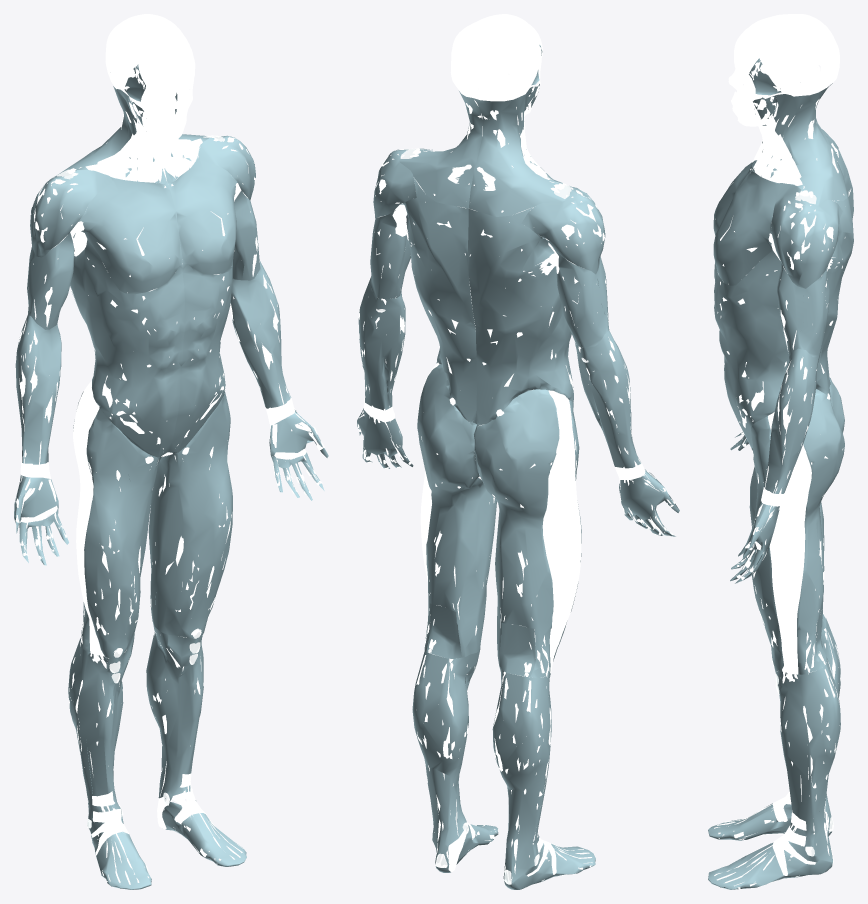
File: articular.glb
3 views of the same model, side by side, from view 1: azimuth 30°, elevation 25°; view 2: azimuth 150°, elevation 25°; view 3: azimuth 270°, elevation 25° (orthographic). The views are drawn at different scales.
Parts seen in each view (by area): view 1: Investing abdominal fascia.r, Fascia lata.l, Fascia lata.r, Crural fascia.l, Crural fascia.r, Pectoral fascia.r, Investing abdominal fascia.l, Pectoral fascia.l, Antebrachial fascia.r, Antebrachial fascia.l, Deltoid fascia.r, Iliotibial tract.r (+14 smaller); view 2: Investing abdominal fascia.r, Fascia lata.r, Fascia lata.l, Crural fascia.r, Investing abdominal fascia.l, Crural fascia.l, Superficial investing cervical fascia.r, Iliotibial tract.r, Antebrachial fascia.r, Antebrachial fascia.l, Deltoid fascia.r, Superficial investing cervical fascia.l (+11 smaller); view 3: Investing abdominal fascia.l, Crural fascia.l, Fascia lata.l, Iliotibial tract.l, Deltoid fascia.l, Pectoral fascia.l, Superficial investing cervical fascia.l, Antebrachial fascia.l, Brachial fascia.l, Epicranial aponeurosis.l, Crural fascia.r, Temporoparietalis muscle.l (+16 smaller).
Boxes of the visible parts, box(x1,y1,x2,y2) form: Investing abdominal fascia.r: box(70, 239, 184, 457); Fascia lata.l: box(148, 391, 232, 638); Fascia lata.r: box(73, 391, 162, 658); Crural fascia.l: box(146, 622, 246, 866); Crural fascia.r: box(68, 639, 151, 889); Pectoral fascia.r: box(78, 179, 182, 294); Investing abdominal fascia.l: box(168, 262, 232, 452); Pectoral fascia.l: box(167, 158, 237, 274); Antebrachial fascia.r: box(15, 315, 61, 464); Antebrachial fascia.l: box(230, 261, 291, 408); Deltoid fascia.r: box(30, 170, 113, 257); Iliotibial tract.r: box(73, 381, 106, 668); Investing abdominal fascia.r: box(467, 206, 573, 424); Fascia lata.r: box(474, 389, 581, 677); Fascia lata.l: box(417, 364, 496, 657); Crural fascia.r: box(492, 666, 595, 889); Investing abdominal fascia.l: box(401, 177, 476, 424); Crural fascia.l: box(412, 650, 498, 872); Superficial investing cervical fascia.r: box(468, 86, 570, 216); Iliotibial tract.r: box(542, 390, 581, 678); Antebrachial fascia.r: box(575, 330, 640, 468); Antebrachial fascia.l: box(358, 276, 405, 410); Deltoid fascia.r: box(521, 173, 605, 274); Superficial investing cervical fascia.l: box(399, 91, 482, 208); Investing abdominal fascia.l: box(714, 195, 853, 447); Crural fascia.l: box(708, 656, 840, 889); Fascia lata.l: box(751, 389, 844, 674); Iliotibial tract.l: box(768, 412, 811, 683); Deltoid fascia.l: box(771, 183, 842, 288); Pectoral fascia.l: box(713, 171, 775, 285); Superficial investing cervical fascia.l: box(751, 83, 847, 205); Antebrachial fascia.l: box(764, 348, 819, 493); Brachial fascia.l: box(777, 261, 829, 357); Epicranial aponeurosis.l: box(738, 18, 839, 77); Crural fascia.r: box(708, 618, 840, 840); Temporoparietalis muscle.l: box(758, 46, 820, 95).
Bounding box in the file's own units: 0.6707 × 1.7 × 0.268.
